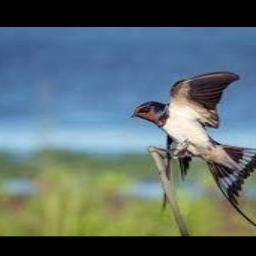Swallow: (133, 72, 256, 231)
